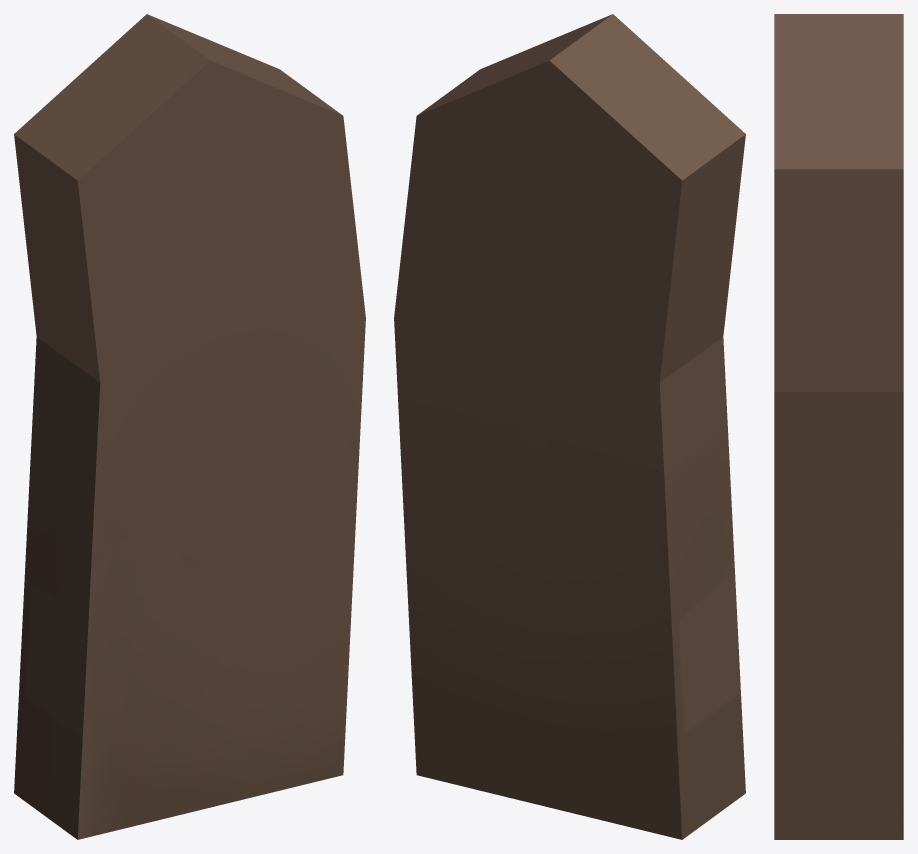
File: GMTKSingleFence.fbx
The picture shows the model from 3 angles, left to right: view 1: azimuth 30°, elevation 25°; view 2: azimuth 150°, elevation 25°; view 3: azimuth 270°, elevation 25°; orthographic projection.
Parts seen in each view (by area): view 1: Grassland Fence.014; view 2: Grassland Fence.014; view 3: Grassland Fence.014.
Boxes of the visible parts, x1,y1,x2,y2 form: Grassland Fence.014: (14,14,365,839); Grassland Fence.014: (394,14,745,839); Grassland Fence.014: (774,14,903,839).
Bounding box in the file's own units: 87.79 × 217 × 33.58.
1 material, 1 textured.
